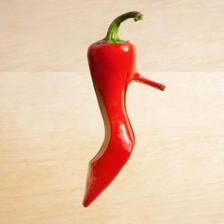red: (83, 48, 166, 207)
